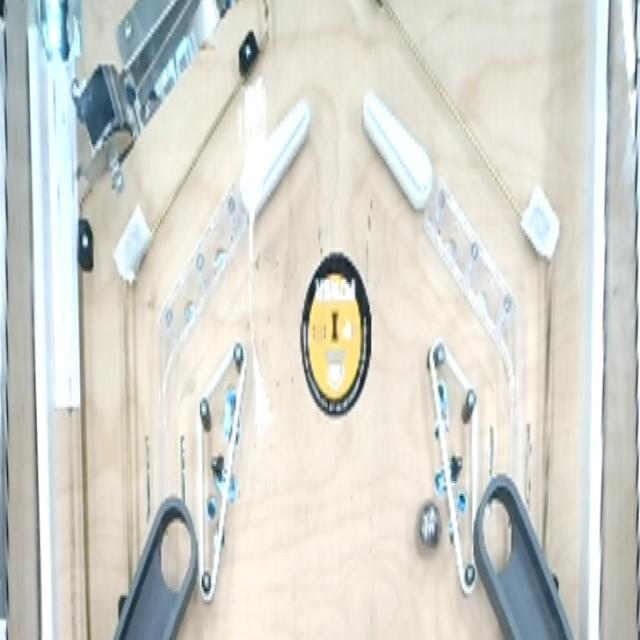ball: (412, 492, 445, 562)
flipper-left: (358, 79, 440, 225)
flipper-right: (235, 87, 315, 231)
